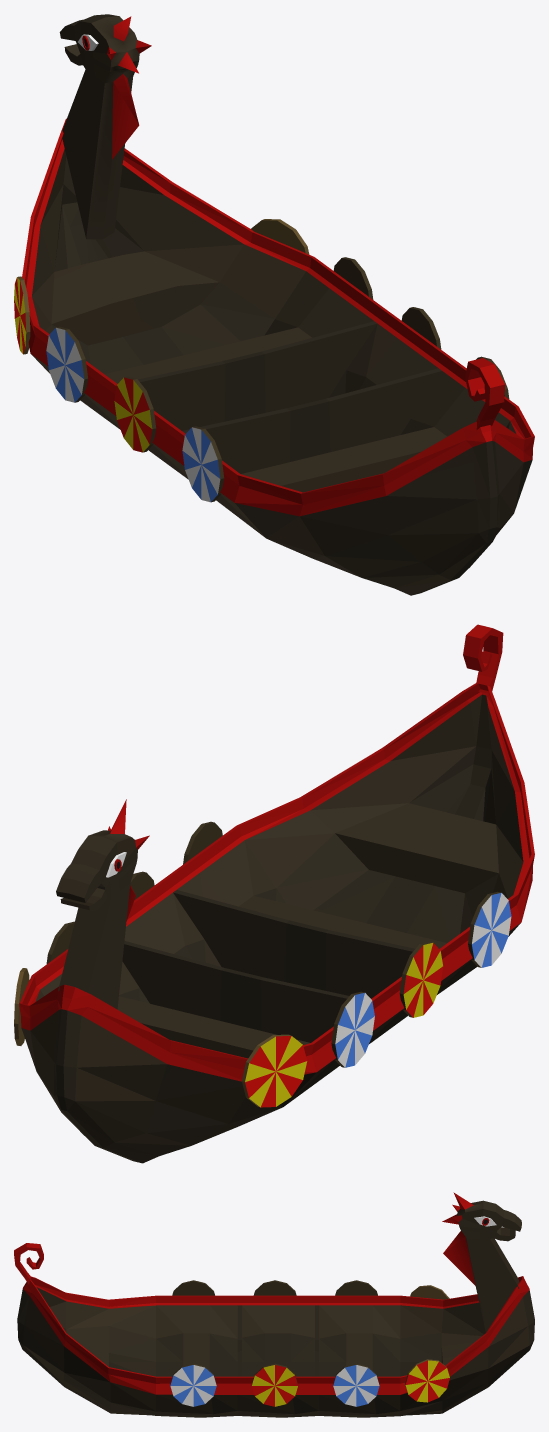
The model's file is Ship_02.fbx.
The picture shows the model from 3 angles, top to bottom: view 1: azimuth 30°, elevation 25°; view 2: azimuth 150°, elevation 25°; view 3: azimuth 270°, elevation 25°; orthographic projection. The views are drawn at different scales.
Visible parts, largest first — view 1: Boat_Inner_02, Boat_Outer_02; view 2: Boat_Inner_02, Boat_Outer_02; view 3: Boat_Outer_02, Boat_Inner_02.
Part boxes in pixels (x1,y1,x2,y2): Boat_Inner_02: [26, 139, 525, 492]; Boat_Outer_02: [14, 14, 534, 595]; Boat_Inner_02: [27, 692, 529, 1058]; Boat_Outer_02: [14, 624, 534, 1163]; Boat_Outer_02: [14, 1192, 534, 1417]; Boat_Inner_02: [35, 1285, 485, 1376].
Size of the model in its own units: 935 by 1148 by 2431.
